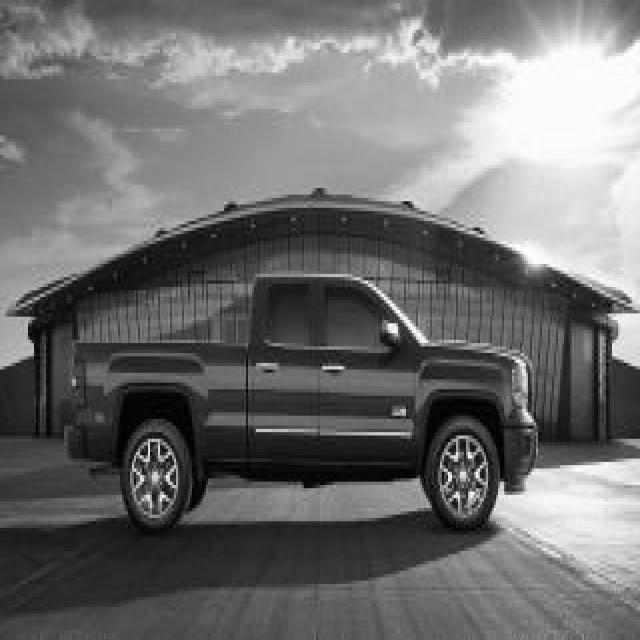Car: (68, 274, 539, 531)
